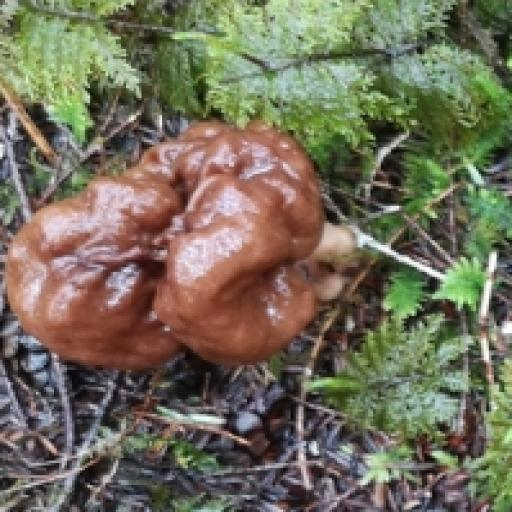False Morel: (0, 81, 373, 439)
